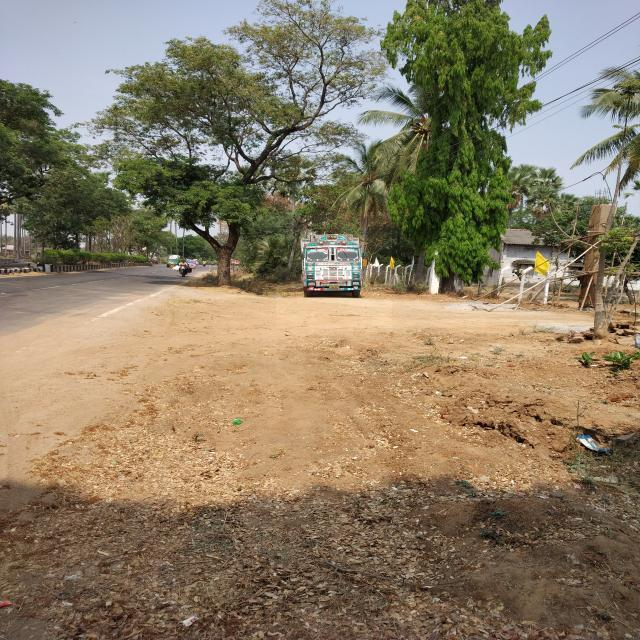Truck: (276, 212, 392, 328)
